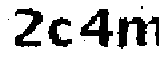2: (6, 6, 46, 50)
4: (78, 2, 116, 52)
c: (47, 14, 75, 48)
m: (117, 12, 160, 50)
